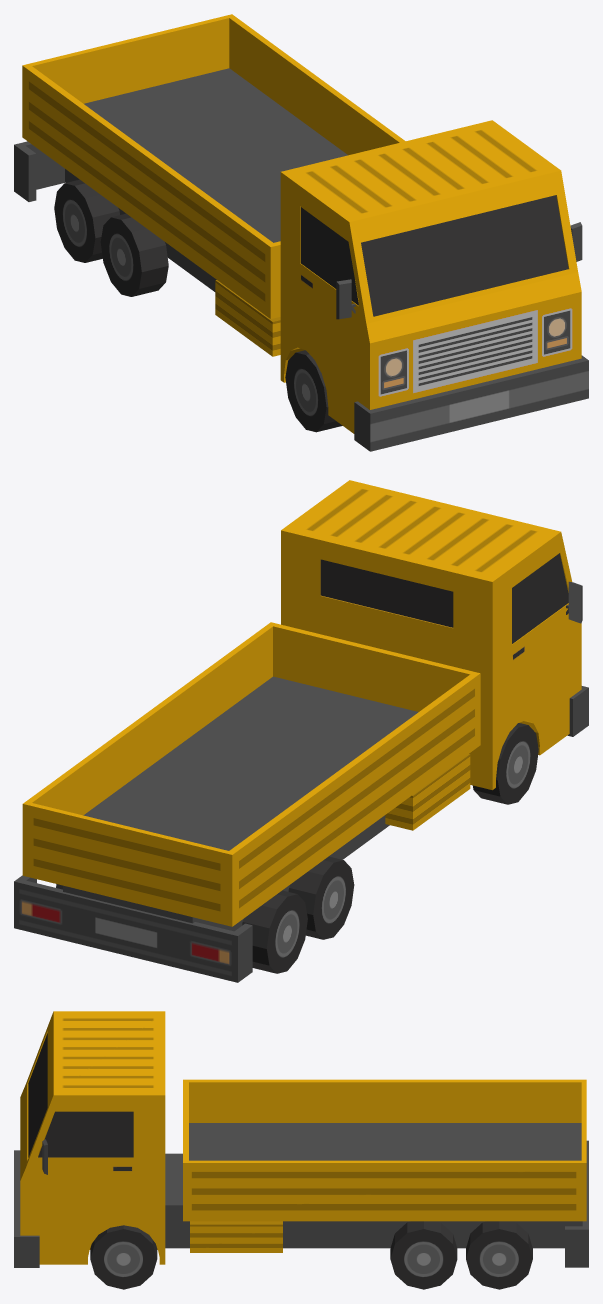
The model's file is vehicle-truck-color03.glb.
3 views of the same model, one above another, from view 1: azimuth 30°, elevation 25°; view 2: azimuth 150°, elevation 25°; view 3: azimuth 270°, elevation 25° (orthographic). The views are drawn at different scales.
Visible parts, largest first — view 1: model; view 2: model; view 3: model.
Part boxes in pixels (x1,y1,x2,y2): model: [14, 14, 588, 451]; model: [14, 480, 588, 982]; model: [14, 1011, 588, 1289].
Bounding box in the file's own units: 3.63 × 3.39 × 9.1.
Materials: 1 (1 with a texture image).
